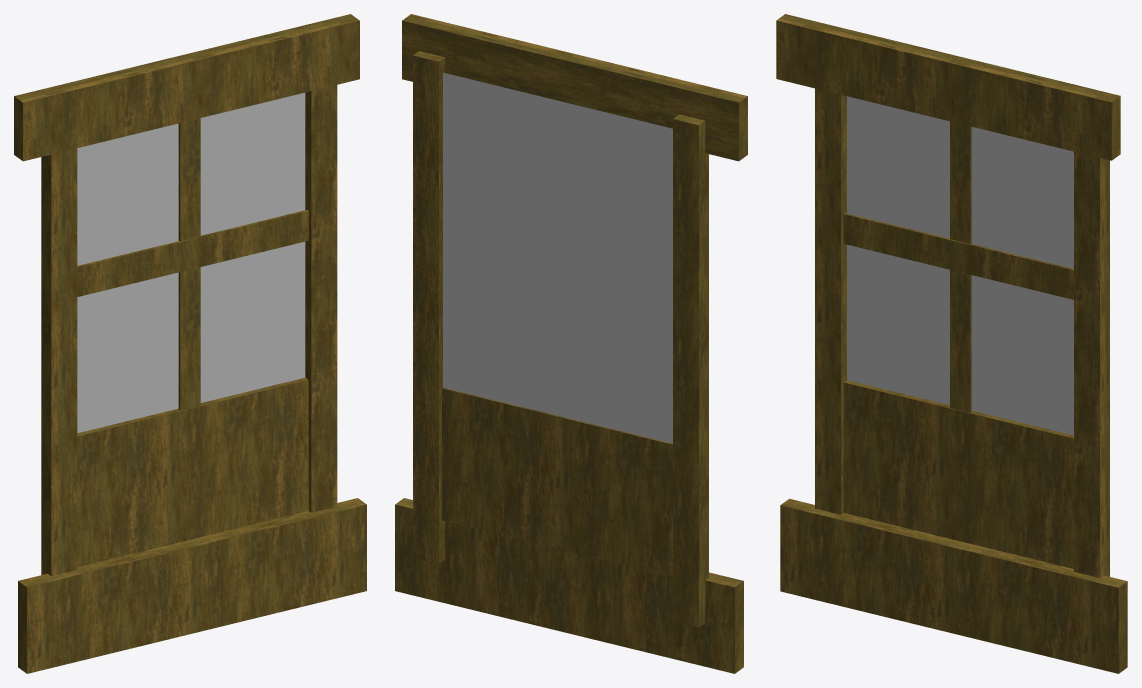
Rendered from Window.fbx.
3 renders of one model, left to right at view 1: azimuth 30°, elevation 25°; view 2: azimuth 150°, elevation 25°; view 3: azimuth 330°, elevation 25°, orthographic.
Visible parts, largest first — view 1: Window_Rectangle; view 2: Window_Rectangle; view 3: Window_Rectangle.
Boxes of the visible parts, <box> form: Window_Rectangle: <box>14,14,366,673</box>; Window_Rectangle: <box>395,14,747,673</box>; Window_Rectangle: <box>776,14,1127,673</box>.
Bounding box in the file's own units: 156 × 248 × 12.06.
